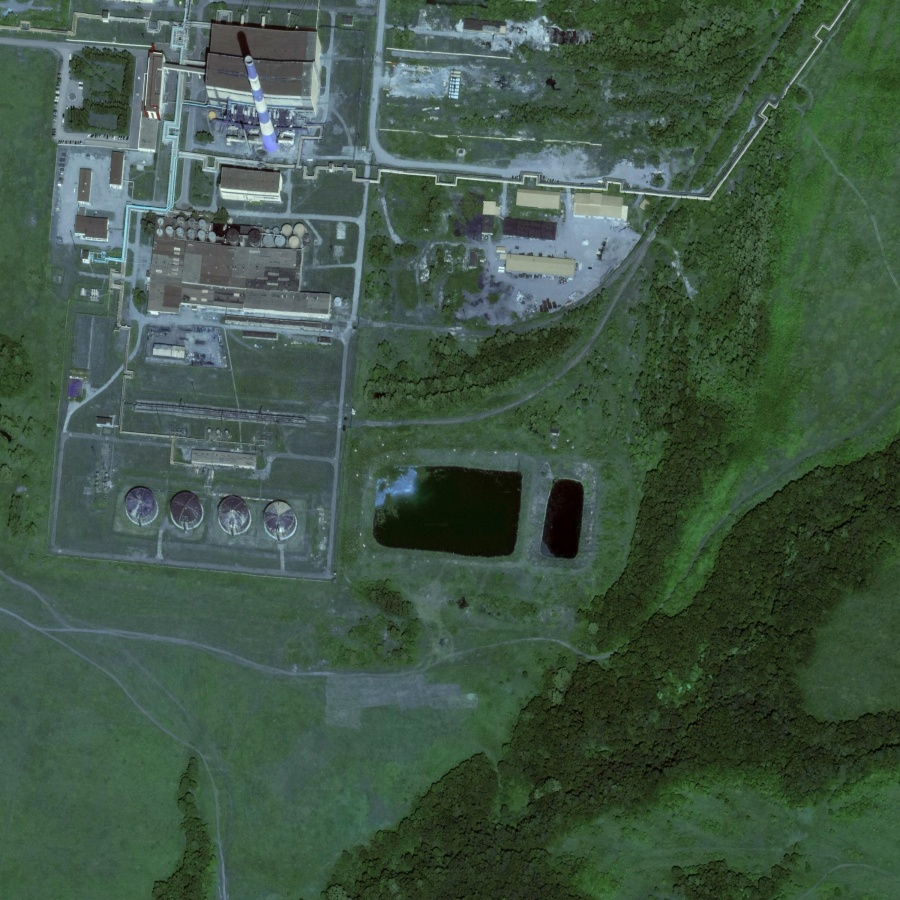PowerPlant: (118, 435, 328, 601), (363, 452, 597, 579)
